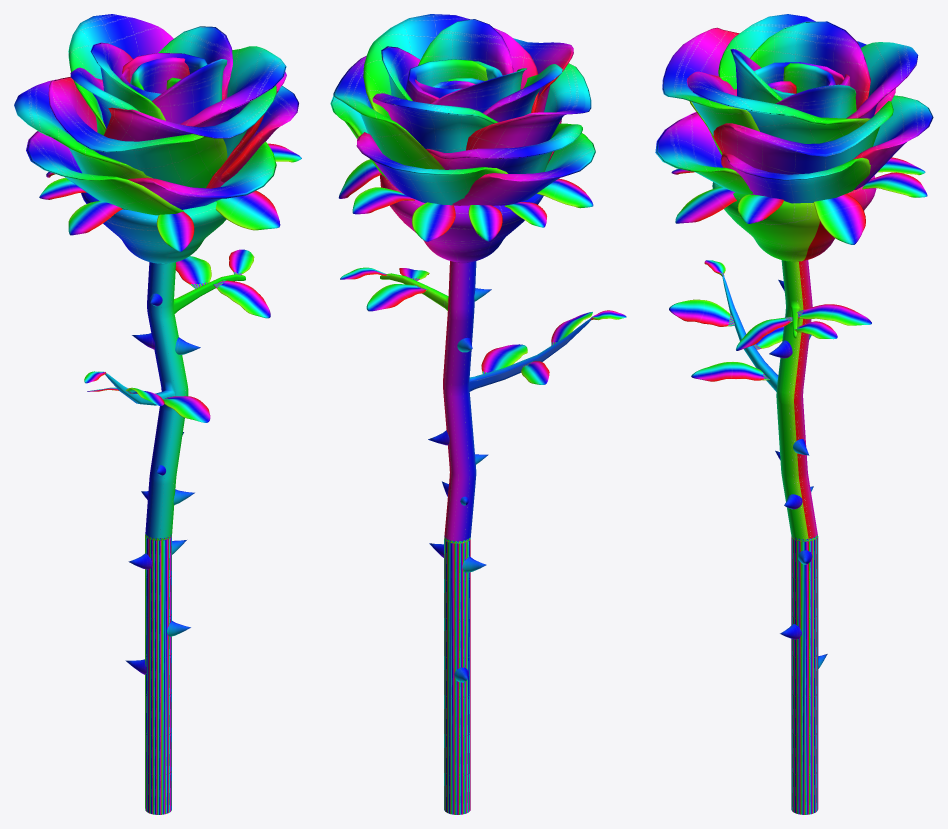
File: Rose.fbx
The picture shows the model from 3 angles, left to right: view 1: azimuth 30°, elevation 25°; view 2: azimuth 150°, elevation 25°; view 3: azimuth 270°, elevation 25°; orthographic projection.
Visible parts, largest first — view 1: polySurface99, polySurface84, polySurface98, polySurface81, polySurface70, polySurface83, polySurface97, polySurface82, polySurface85, polySurface71, polySurface78, polySurface69 (+14 smaller); view 2: polySurface99, polySurface101, polySurface82, polySurface84, polySurface81, polySurface70, polySurface87, polySurface97, polySurface86, polySurface85, polySurface78, polySurface73 (+14 smaller); view 3: polySurface99, polySurface86, polySurface79, polySurface82, polySurface97, polySurface83, polySurface102, polySurface72, polySurface100, polySurface71, polySurface87, polySurface81 (+13 smaller).
Part boxes in pixels (x1,y1,x2,y2): polySurface99: (105,262,245,540); polySurface84: (48,77,227,188); polySurface98: (147,538,165,814); polySurface81: (68,14,173,135); polySurface70: (26,131,184,215); polySurface83: (104,85,276,158); polySurface97: (81,192,226,264); polySurface82: (180,46,286,127); polySurface85: (14,79,152,209); polySurface71: (128,141,276,209); polySurface78: (152,59,227,123); polySurface69: (158,26,232,100); polySurface99: (380,261,590,543); polySurface101: (450,541,468,814); polySurface82: (363,14,538,119); polySurface84: (466,63,591,150); polySurface81: (372,93,498,152); polySurface70: (452,133,595,205); polySurface87: (356,132,507,205); polySurface97: (380,174,543,263); polySurface86: (333,56,444,169); polySurface85: (426,123,582,173); polySurface78: (418,19,513,75); polySurface73: (405,59,487,103); polySurface99: (722,260,817,541); polySurface86: (713,101,893,194); polySurface79: (749,21,870,110); polySurface82: (686,71,870,143); polySurface97: (712,175,876,262); polySurface83: (662,27,759,135); polySurface102: (804,536,818,814); polySurface72: (721,153,870,203); polySurface100: (791,536,804,814); polySurface71: (655,112,752,194); polySurface87: (853,95,933,189); polySurface81: (846,42,918,118).
Bounding box in the file's own units: 0.7873 × 2.3 × 0.7567.
